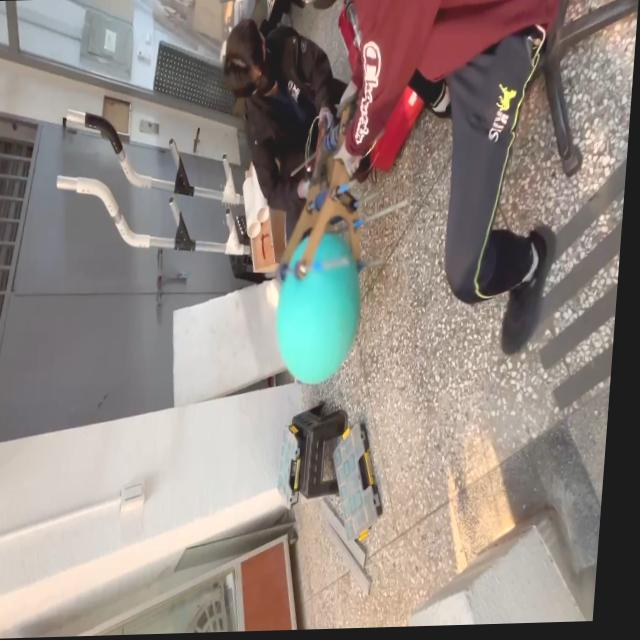ALGAE: (270, 228, 367, 388)
